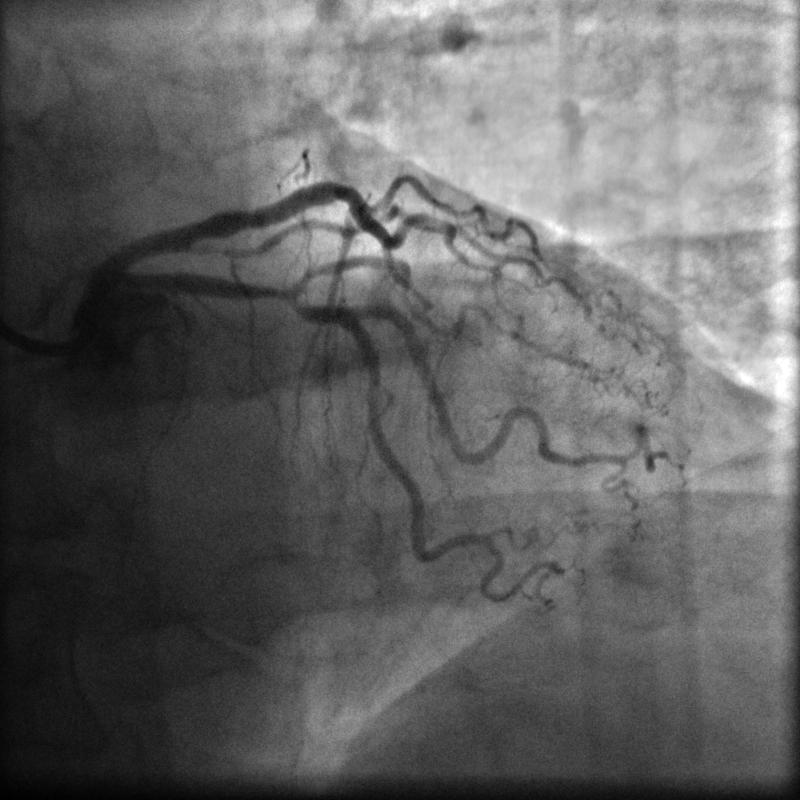Stenosis: (255, 280, 305, 305)
